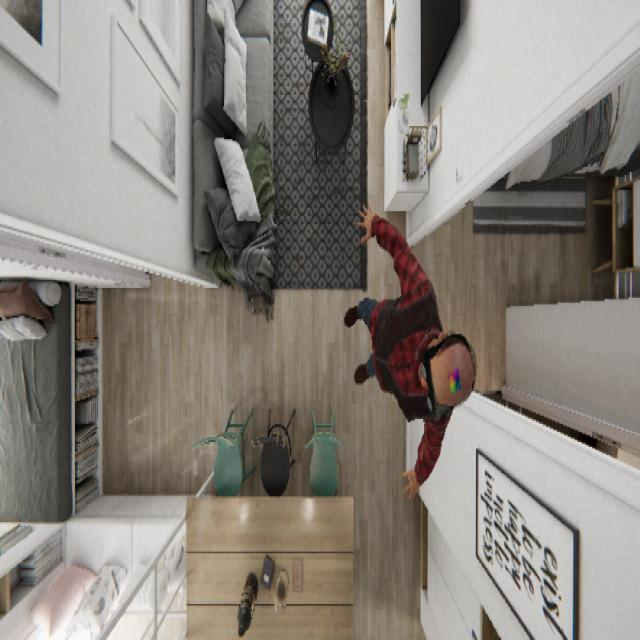Colored-Marker: (446, 363, 462, 396)
Human: (343, 200, 477, 501)
